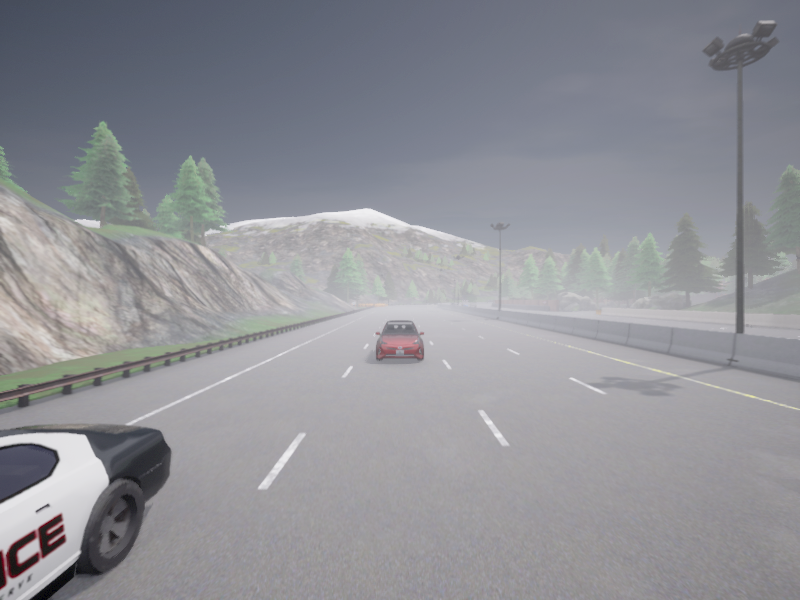vehicle: (0, 424, 171, 599), (375, 320, 424, 360), (462, 300, 468, 305), (469, 302, 475, 306), (463, 303, 467, 306), (450, 303, 455, 304)
